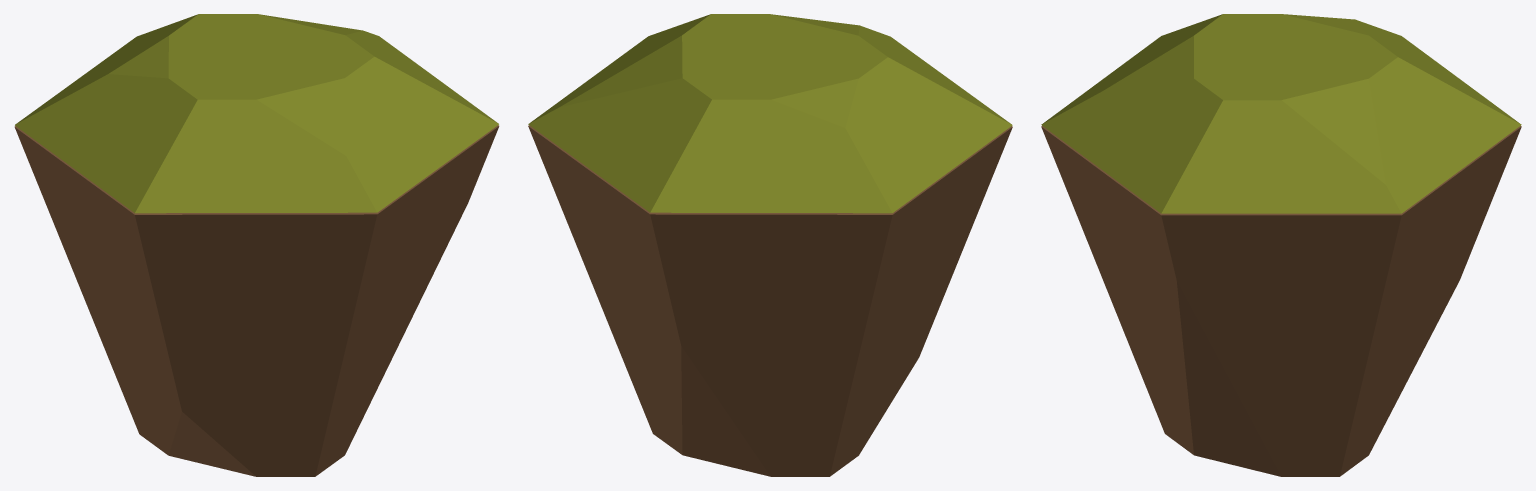
The model's file is Debris3.fbx.
3 views of the same model, side by side, from view 1: azimuth 30°, elevation 25°; view 2: azimuth 150°, elevation 25°; view 3: azimuth 270°, elevation 25° (orthographic).
Visible parts, largest first — view 1: mergedBlocks; view 2: mergedBlocks; view 3: mergedBlocks.
Part boxes in pixels (x1,y1,x2,y2): mergedBlocks: (14,14,499,476); mergedBlocks: (528,14,1012,476); mergedBlocks: (1041,14,1521,476).
Bounding box in the file's own units: 9 × 8.9 × 10.29.
